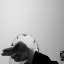h: (1, 40, 32, 64)
